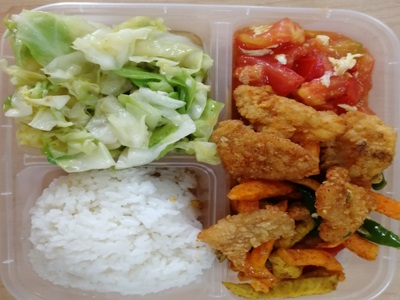cct: (14, 14, 205, 155)
jdxhs: (237, 23, 372, 103)
r5: (228, 106, 371, 288)
rice: (35, 180, 195, 286)
